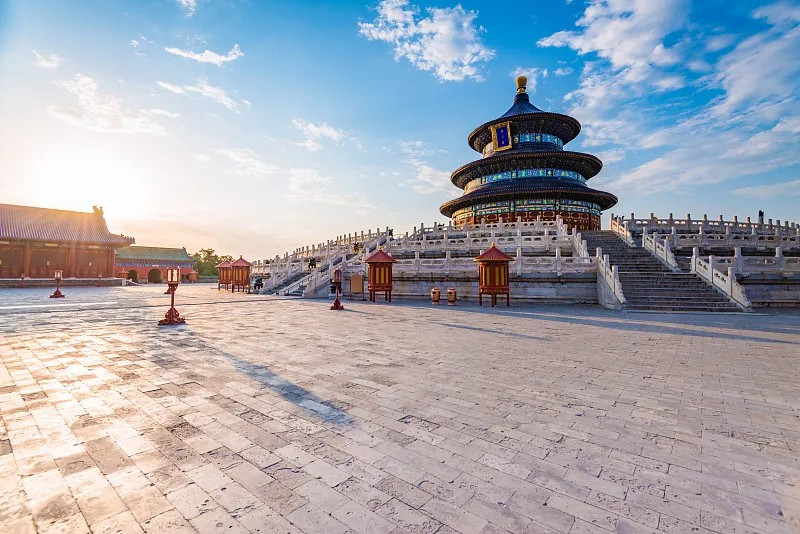Heaven: (438, 75, 619, 231)
